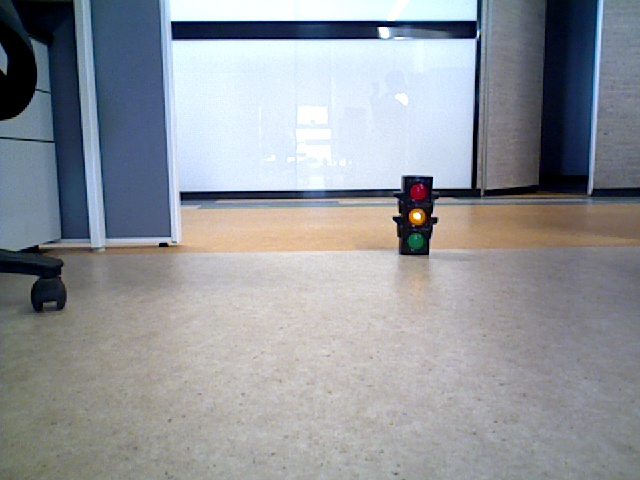yellow: (400, 176, 429, 253)
